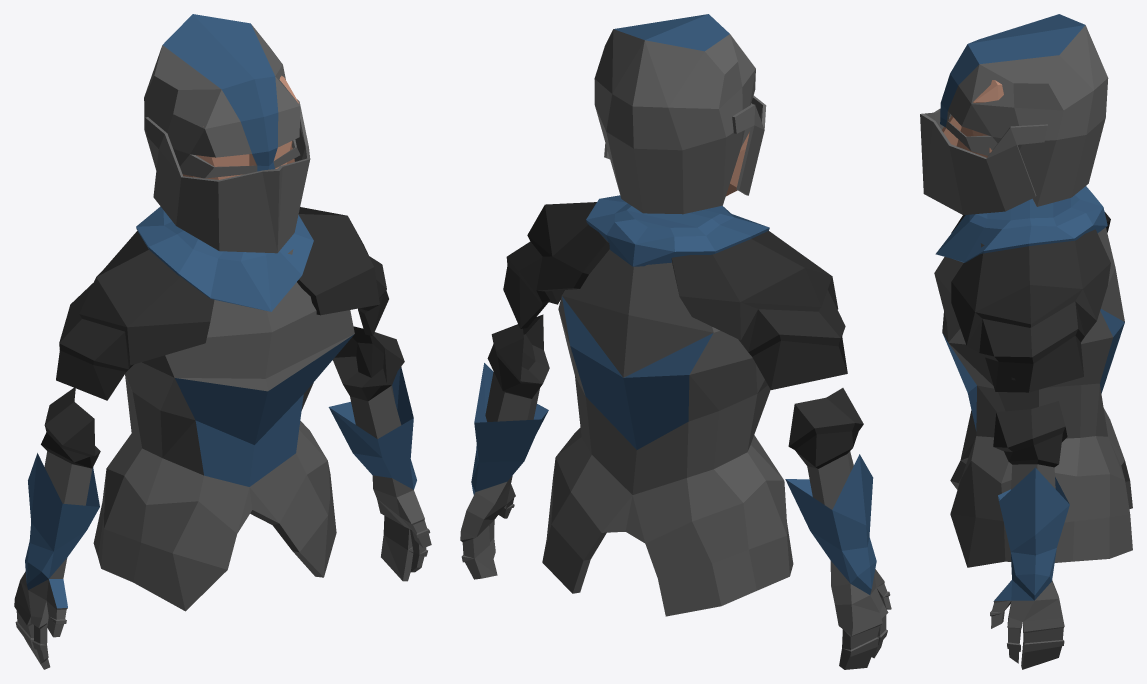
The model's file is ChevalierBleu.FBX.
The picture shows the model from 3 angles, left to right: view 1: azimuth 30°, elevation 25°; view 2: azimuth 150°, elevation 25°; view 3: azimuth 270°, elevation 25°; orthographic projection. The views are drawn at different scales.
Parts seen in each view (by area): view 1: player_armor, player_helmet_v02, player_arms_left, player_arm_right, player_helmetVisor_v02, player_head; view 2: player_armor, player_helmet_v02, player_arm_right, player_arms_left, player_helmetVisor_v02; view 3: player_armor, player_helmet_v02, player_arms_left, player_helmetVisor_v02, player_head.
Part boxes in pixels (x1,y1,x2,y2): player_armor: (56, 206, 388, 611); player_helmet_v02: (144, 14, 300, 178); player_arms_left: (328, 326, 431, 581); player_arm_right: (14, 387, 100, 669); player_helmetVisor_v02: (145, 99, 310, 253); player_head: (182, 75, 299, 179); player_armor: (503, 195, 847, 616); player_helmet_v02: (594, 14, 755, 214); player_arm_right: (785, 388, 891, 669); player_arms_left: (460, 314, 549, 579); player_helmetVisor_v02: (604, 95, 766, 195); player_armor: (934, 186, 1132, 567); player_helmet_v02: (940, 14, 1108, 206); player_arms_left: (990, 401, 1069, 669); player_helmetVisor_v02: (920, 108, 1047, 215); player_head: (942, 80, 1003, 157).
Size of the model in its own units: 14.65 by 20.76 by 7.15.
